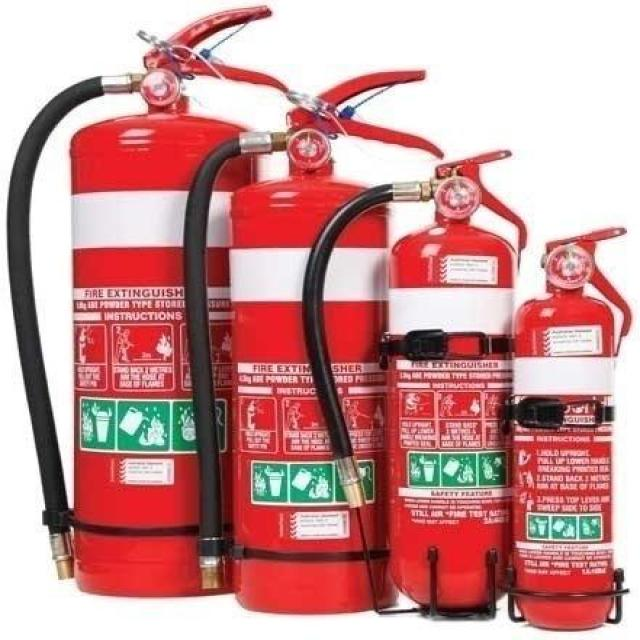fire_extinguisher: (1, 0, 295, 600), (176, 64, 449, 620), (294, 142, 530, 615), (499, 220, 639, 636)
